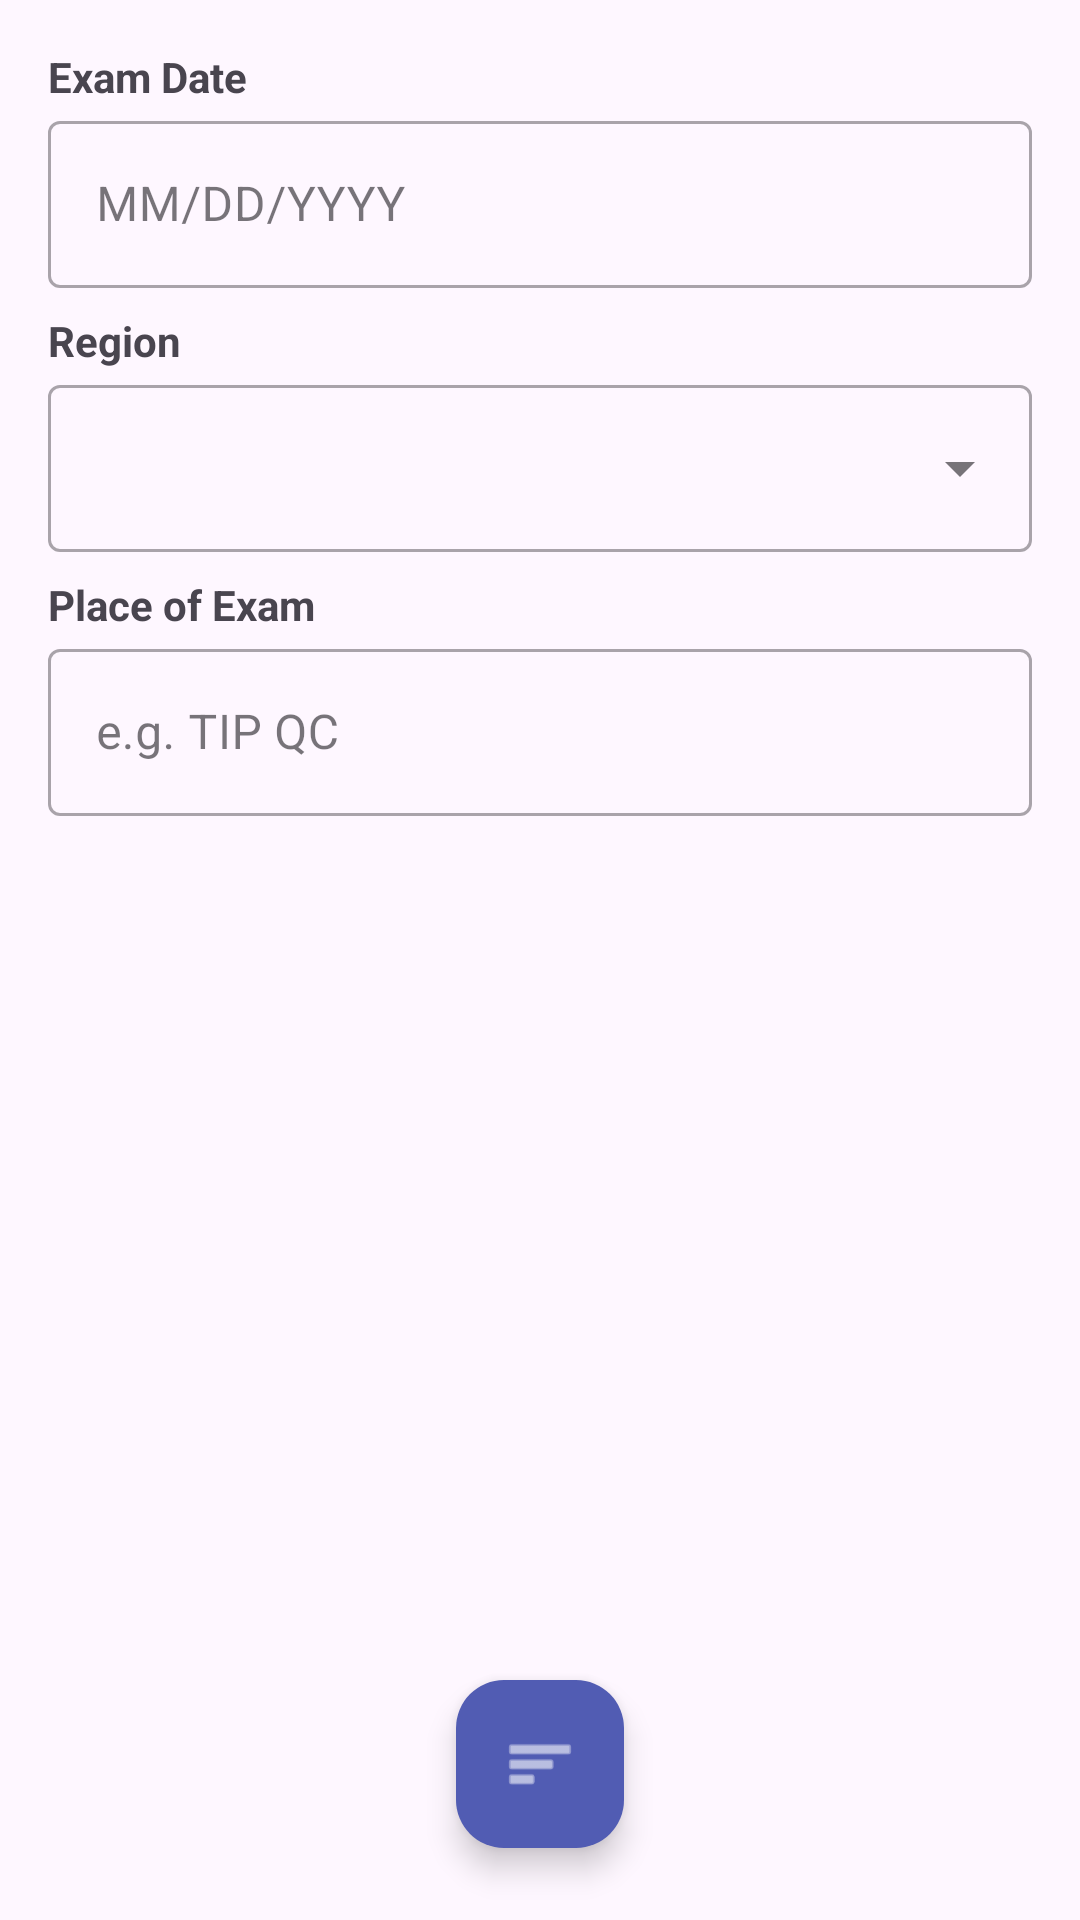

Icon click points for this 1080 x 1920 phone screenshot, format (x,y):
Results Screen Menu Button: (540,1764)
